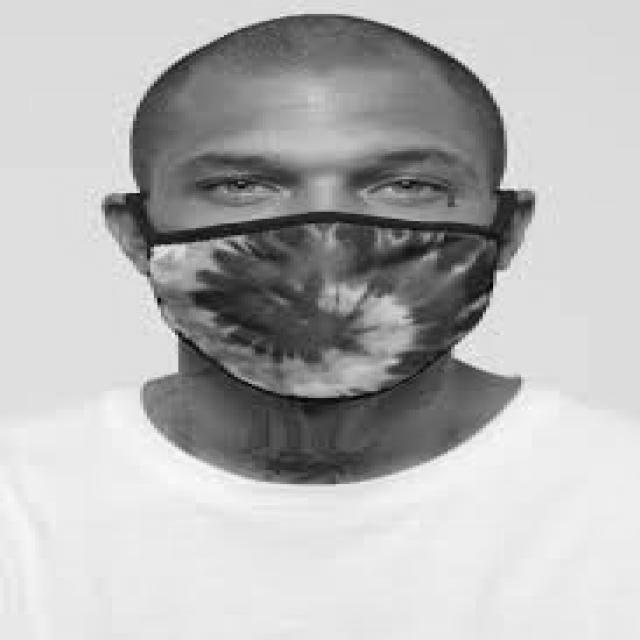fake: (143, 212, 505, 406)
real: (147, 68, 500, 425)
